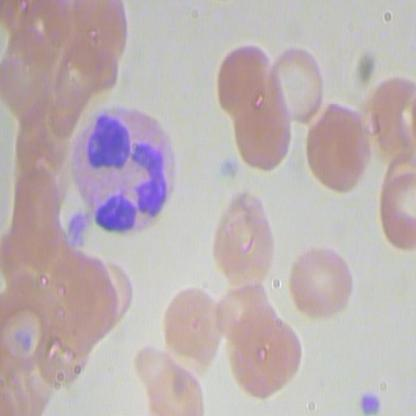Platelets: (66, 208, 93, 248), (358, 382, 385, 415)
RBC: (224, 309, 307, 403), (209, 185, 280, 292), (302, 101, 375, 197), (160, 285, 228, 372), (285, 242, 358, 322), (269, 38, 330, 128), (130, 342, 205, 415), (233, 95, 300, 171), (210, 36, 276, 111)
WBC: (69, 100, 181, 237)
